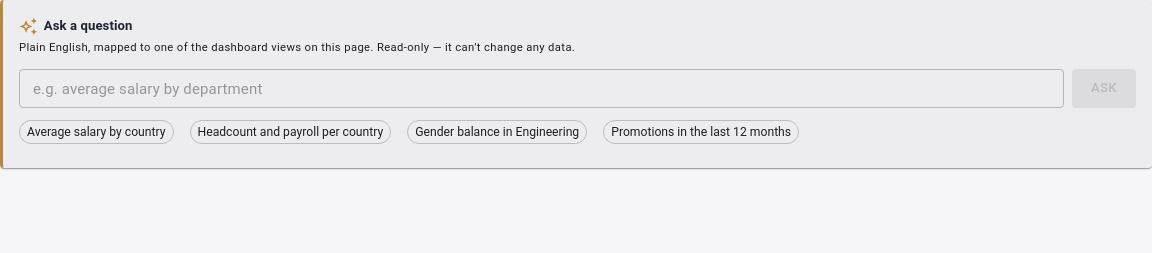
it: NLQueryBox › maps a 503 to a friendly unavailable message rather than the raw detail
The image size is (1152, 253).
In the field named "Analytics question": {"x": 542, "y": 89} 19,69 -> 1064,108, type "average salary by country"
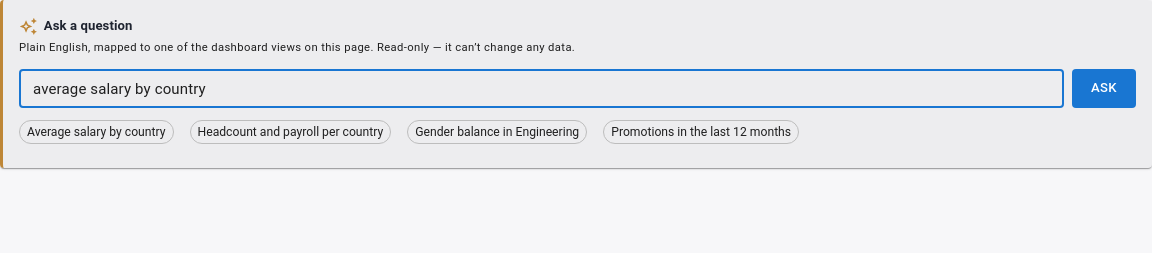
Click the button "Ask": {"x": 1104, "y": 89} 1072,69 -> 1136,108
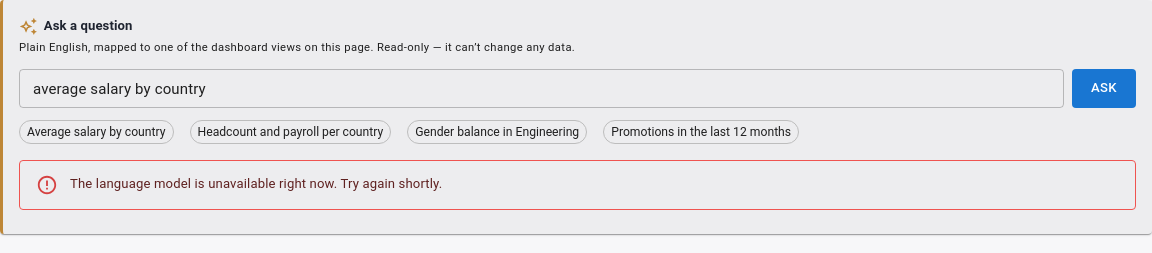
Result: the text "language model is unavailable right now" is shown at 70,176 -> 442,191
